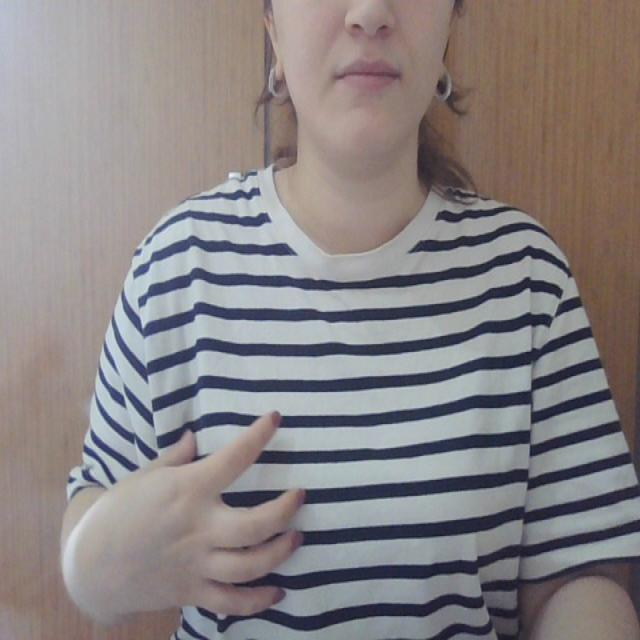Anne: (114, 401, 514, 622)
